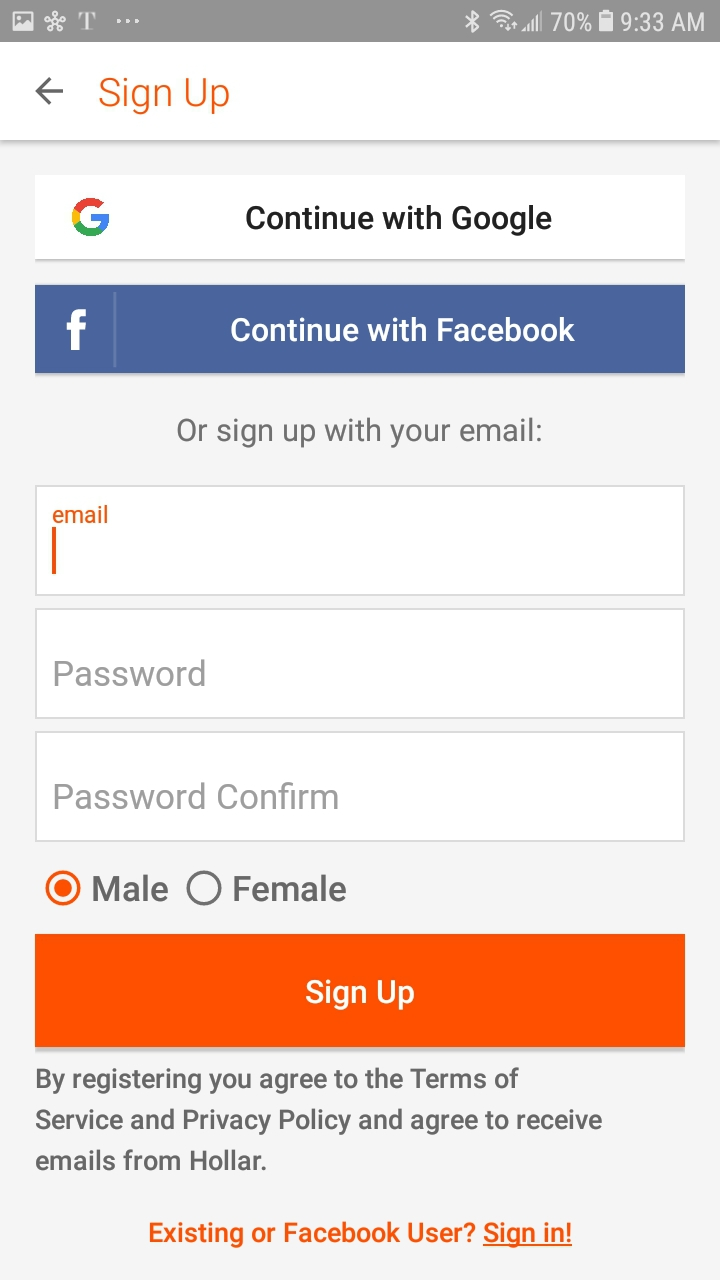CheckedTextView: (186, 870, 347, 906), (45, 870, 169, 907)
EditText: (36, 485, 686, 597), (36, 731, 686, 843), (36, 609, 685, 720)
Icon: (36, 77, 65, 106)
Text: (36, 1067, 603, 1172), (150, 1221, 573, 1249), (178, 418, 541, 446), (55, 782, 340, 810), (99, 78, 230, 116), (55, 659, 206, 688), (234, 874, 347, 903), (93, 873, 169, 902), (53, 505, 109, 524)
TextButton: (36, 934, 686, 1048), (36, 285, 686, 374), (36, 175, 686, 260)
UpperTaskBar: (1, 1, 720, 43)
